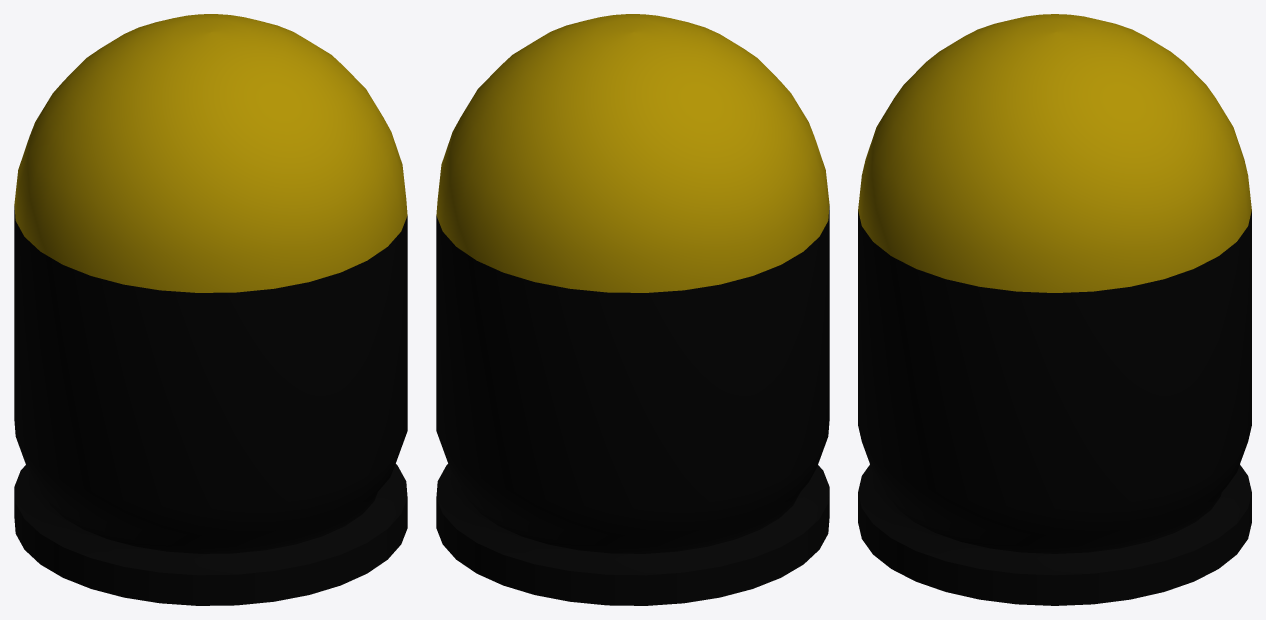
The model's file is pipe.fbx.
3 renders of one model, left to right at view 1: azimuth 30°, elevation 25°; view 2: azimuth 150°, elevation 25°; view 3: azimuth 270°, elevation 25°, orthographic.
Visible parts, largest first — view 1: Cylinder; view 2: Cylinder; view 3: Cylinder.
Boxes of the visible parts, x1,y1,x2,y2 form: Cylinder: [14, 14, 407, 605]; Cylinder: [436, 14, 829, 605]; Cylinder: [858, 14, 1251, 605].
Bounding box in the file's own units: 5.5 × 7.68 × 5.5.
